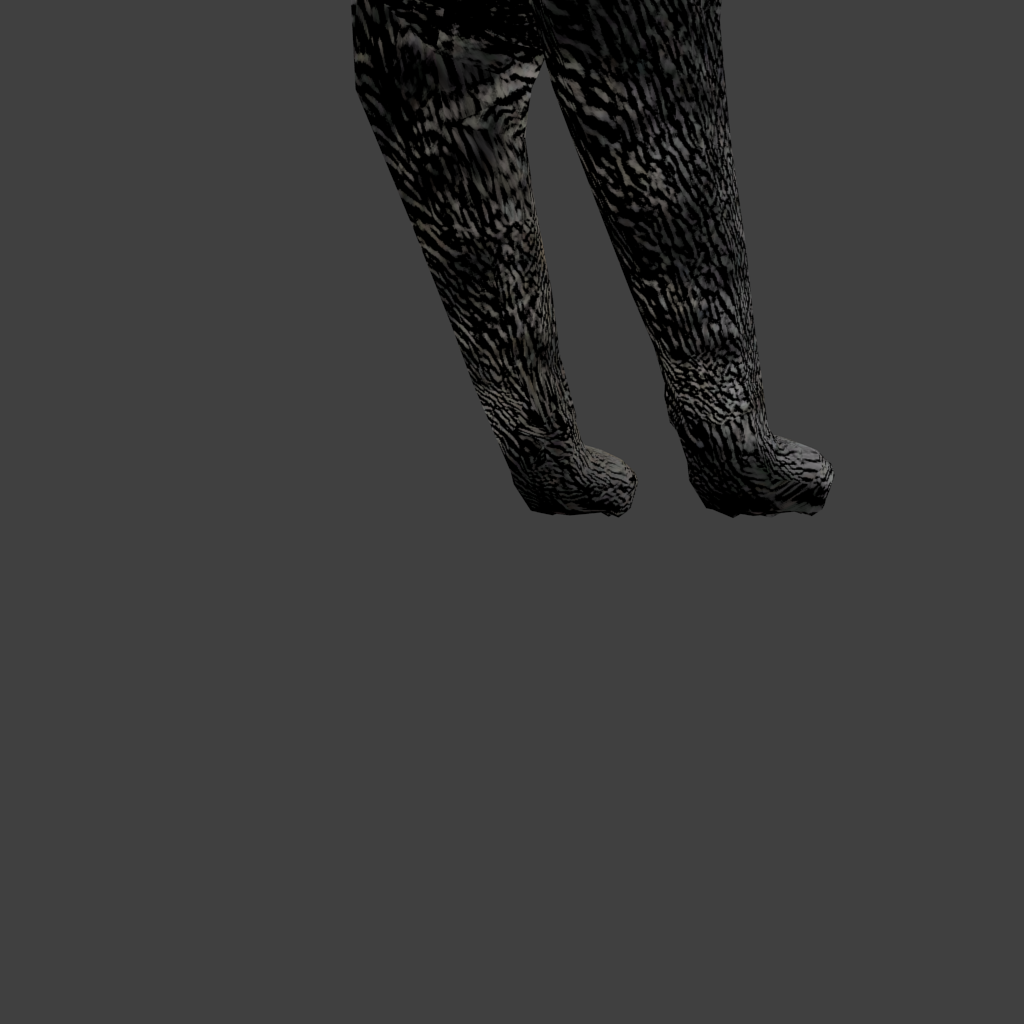Cat: (0, 0, 1022, 518)
